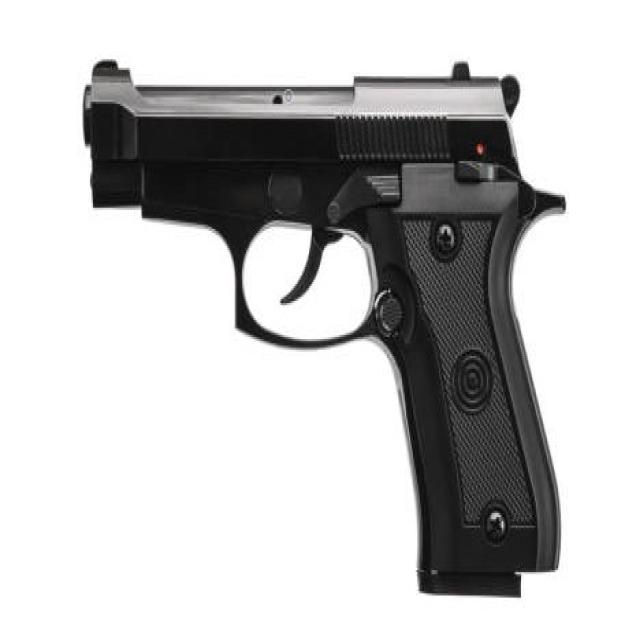pistol: (77, 52, 572, 606)
